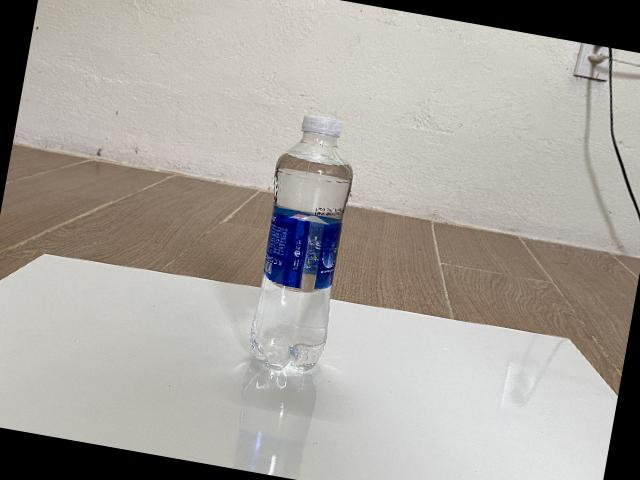aquafina: (249, 115, 353, 369)
